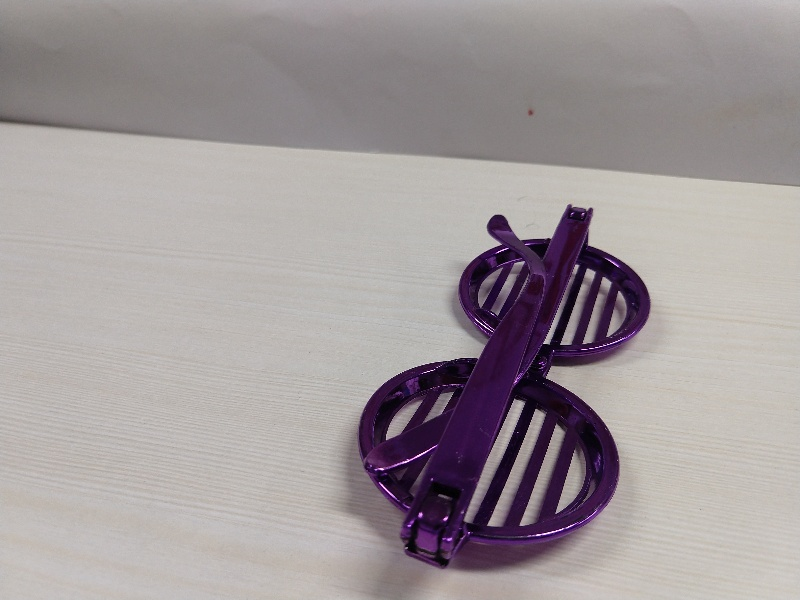shades: (346, 195, 672, 567)
